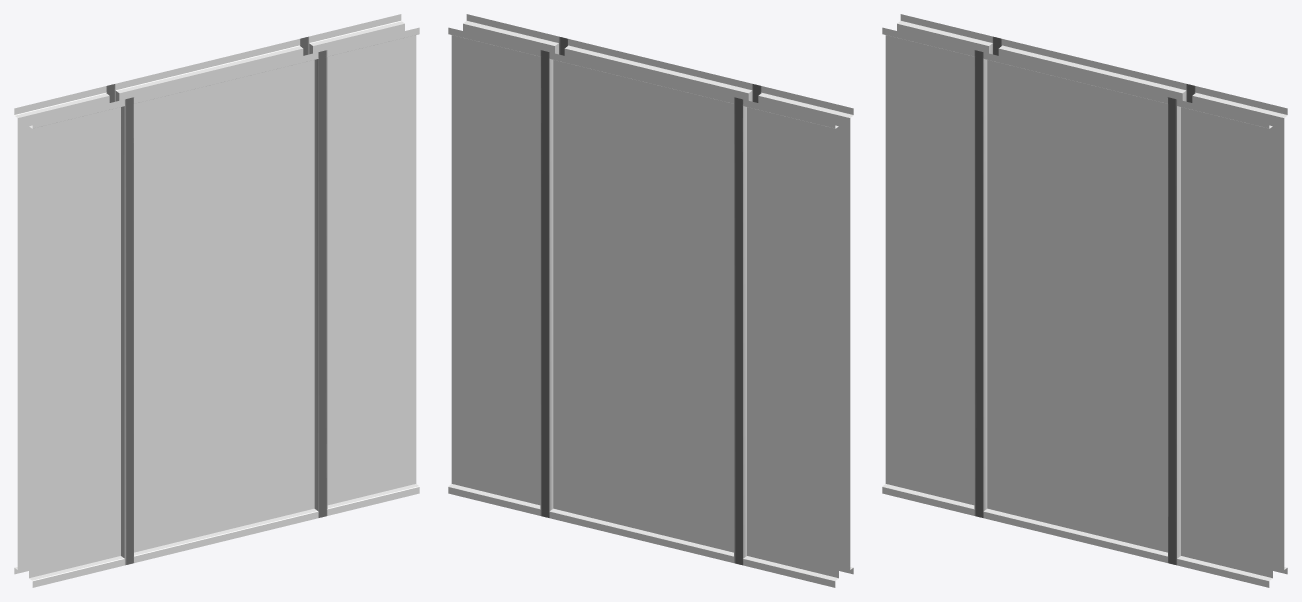
File: Wall_200x230x10.fbx
3 views of the same model, side by side, from view 1: azimuth 30°, elevation 25°; view 2: azimuth 150°, elevation 25°; view 3: azimuth 330°, elevation 25° (orthographic).
Visible parts, largest first — view 1: Wall_Var1_200x235; view 2: Wall_Var1_200x235; view 3: Wall_Var1_200x235.
Boxes of the visible parts, x1,y1,x2,y2 form: Wall_Var1_200x235: [14, 14, 419, 587]; Wall_Var1_200x235: [448, 14, 853, 587]; Wall_Var1_200x235: [882, 14, 1287, 587].
Bounding box in the file's own units: 200 × 230 × 16.45.
